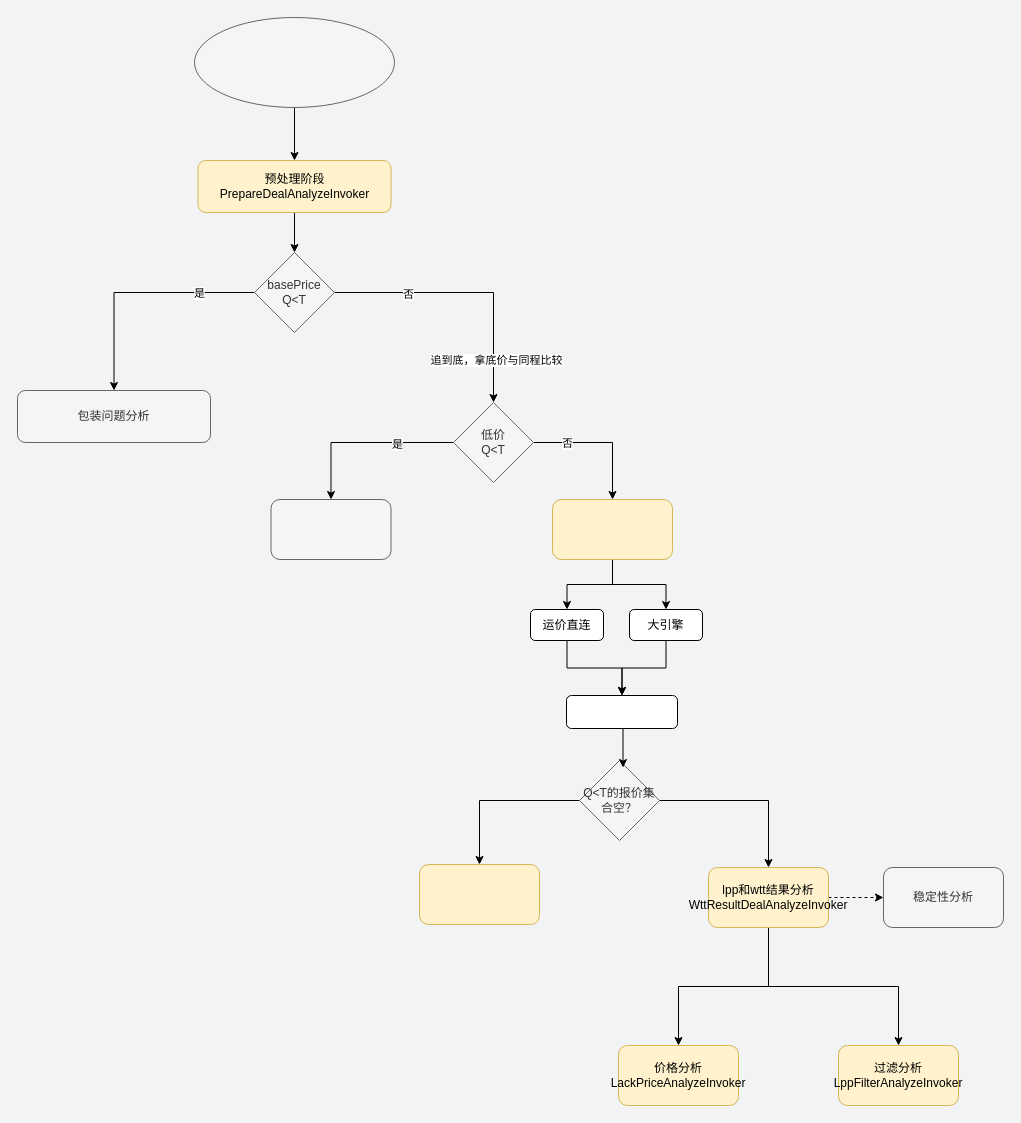
Some shapes in this 1021 by 1123 pixel diagram are drawn without their labels. Each missing label, with the centre of its shape:
"价格追到底" belongs at point (622, 711).
"同程比价消息 TQFareCompareKafkaConsumer" belongs at point (294, 62).
"实时问题分析 CalculateBasePriceAnalyze" belongs at point (612, 529).
"缺货分析 LackPriceAnalyzeInvoker" belongs at point (479, 894).
"追价阈值不够" belongs at point (330, 529).
